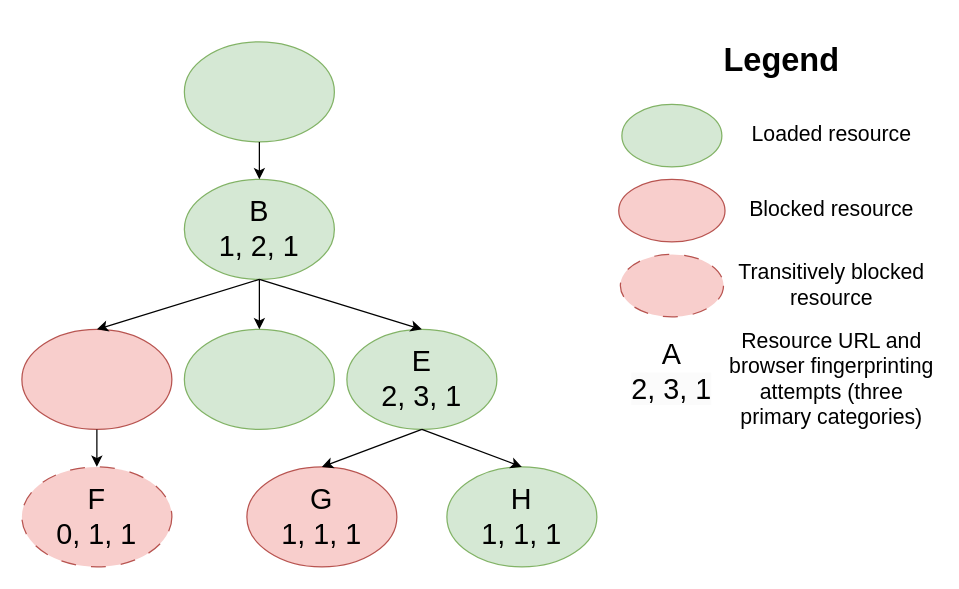
Image size: 959x589. Some labels were removed from this diagram. The shapes that lost their labels are listed below. From the top down, each one's box as (x1, y1, x2, y2) in pixels, then its label:
(183, 41, 334, 142): A 0, 0, 0
(21, 328, 172, 429): C 1, 1, 1
(183, 328, 334, 429): D 1, 3, 1
